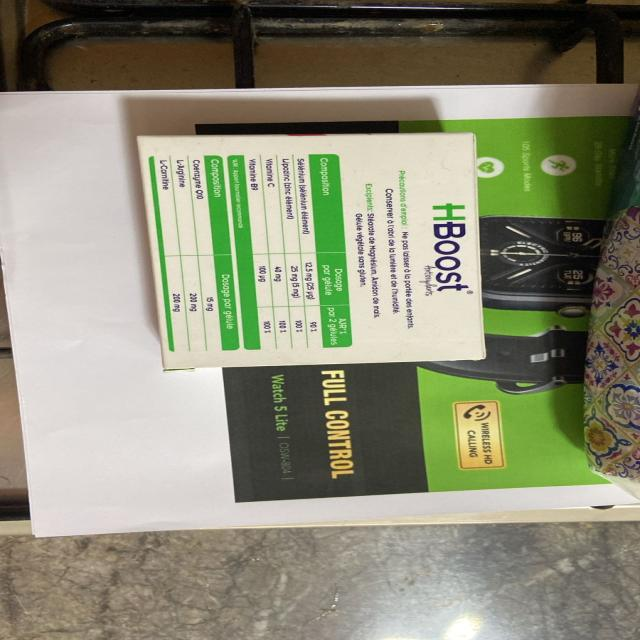Watch 5 Lite OSW-804: (265, 370, 301, 484)
